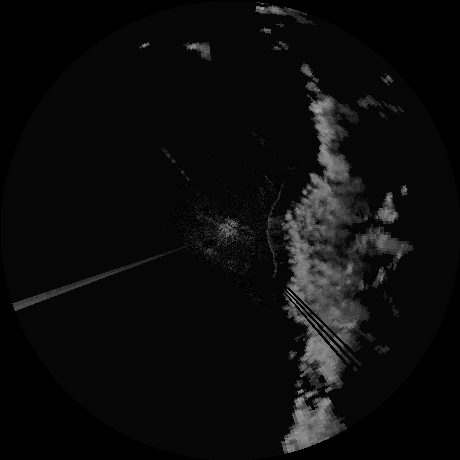frontgust: (263, 181, 283, 274)
